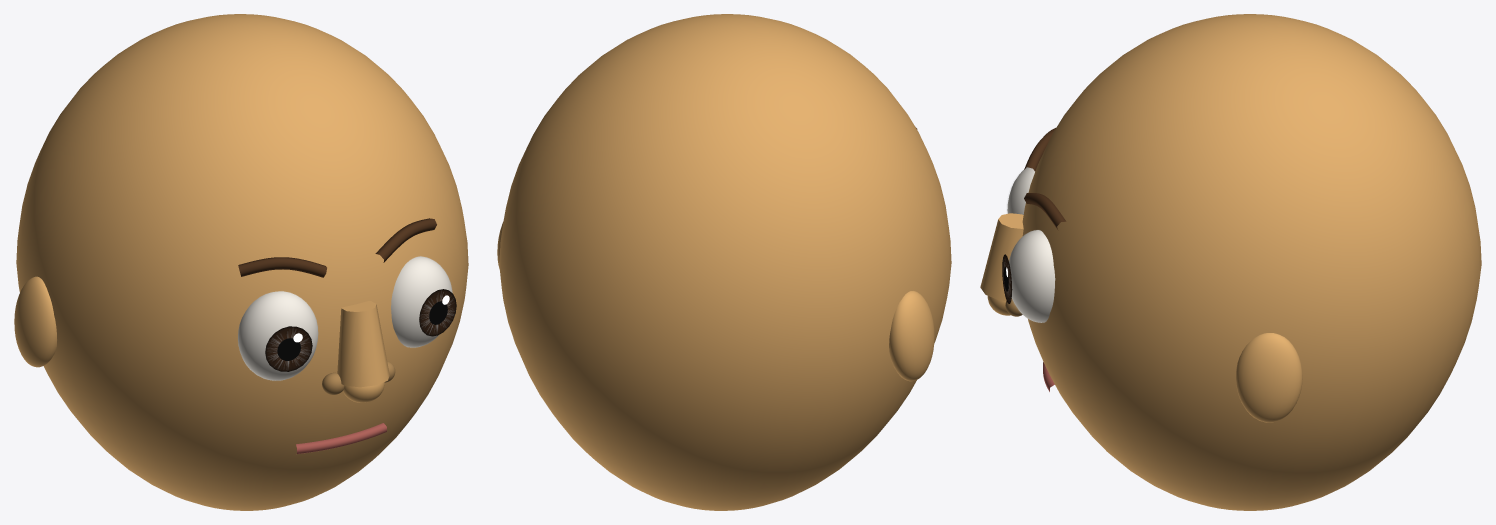
Rendered from 07-plat.glb.
3 views of the same model, side by side, from view 1: azimuth 30°, elevation 25°; view 2: azimuth 150°, elevation 25°; view 3: azimuth 270°, elevation 25° (orthographic).
Bounding box in the file's own units: 0.3087 × 0.321 × 0.315.
Materials: 9 (1 with a texture image).
